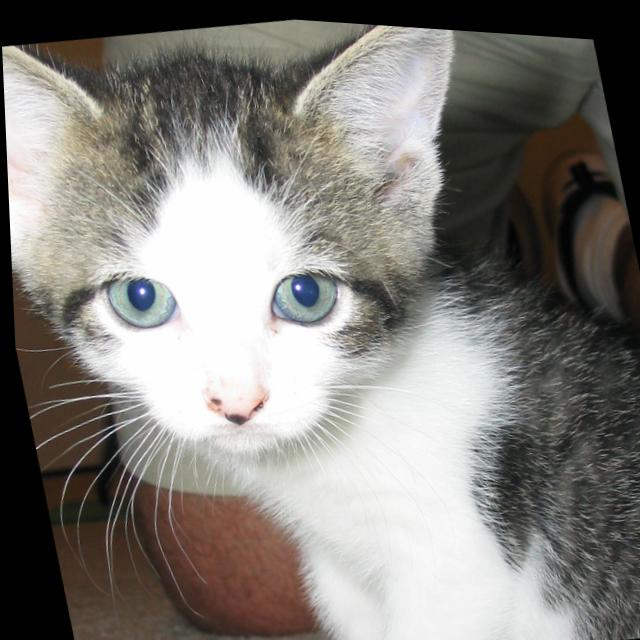animals: (0, 0, 522, 468)
